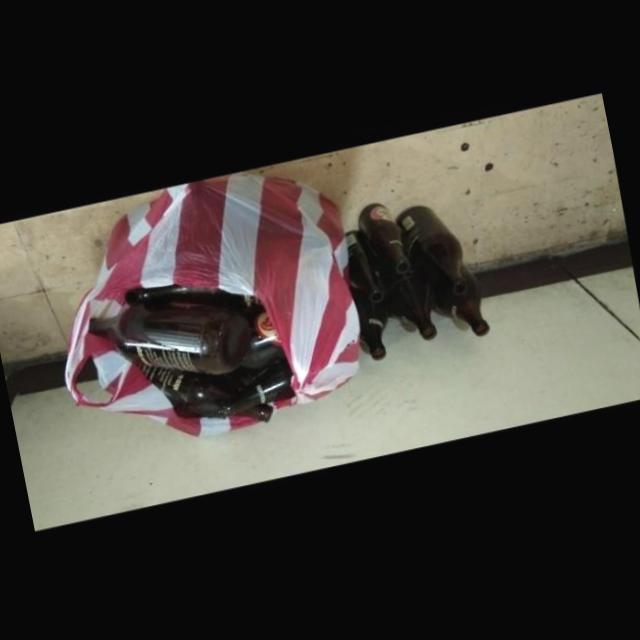chai_thuy_tinh: (90, 303, 253, 376), (397, 208, 471, 301), (141, 365, 234, 420), (221, 365, 298, 421), (125, 285, 265, 315), (435, 266, 492, 339), (361, 204, 413, 279), (390, 264, 439, 343), (352, 284, 390, 363), (347, 232, 386, 305), (237, 405, 276, 425)
